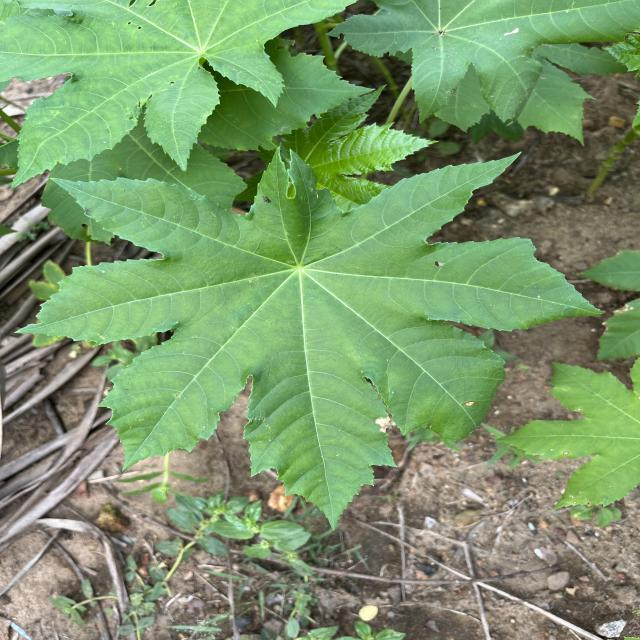Ricinus communis linn: (11, 138, 608, 536)
